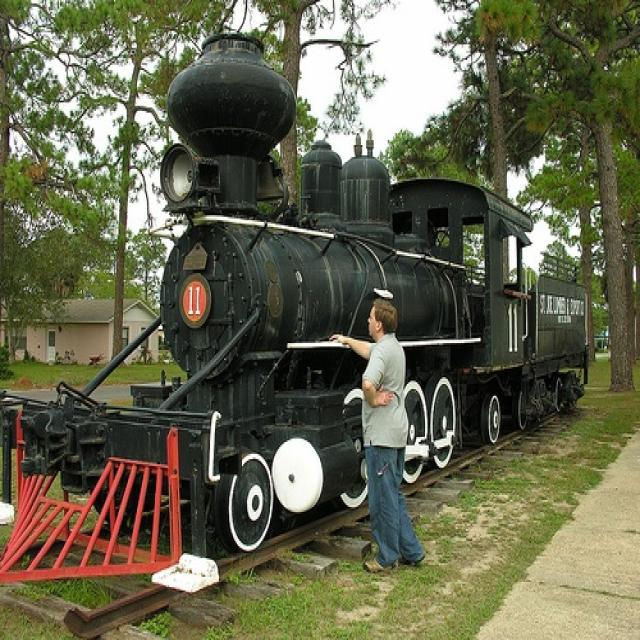person: (330, 298, 427, 573)
train: (1, 32, 589, 593)
